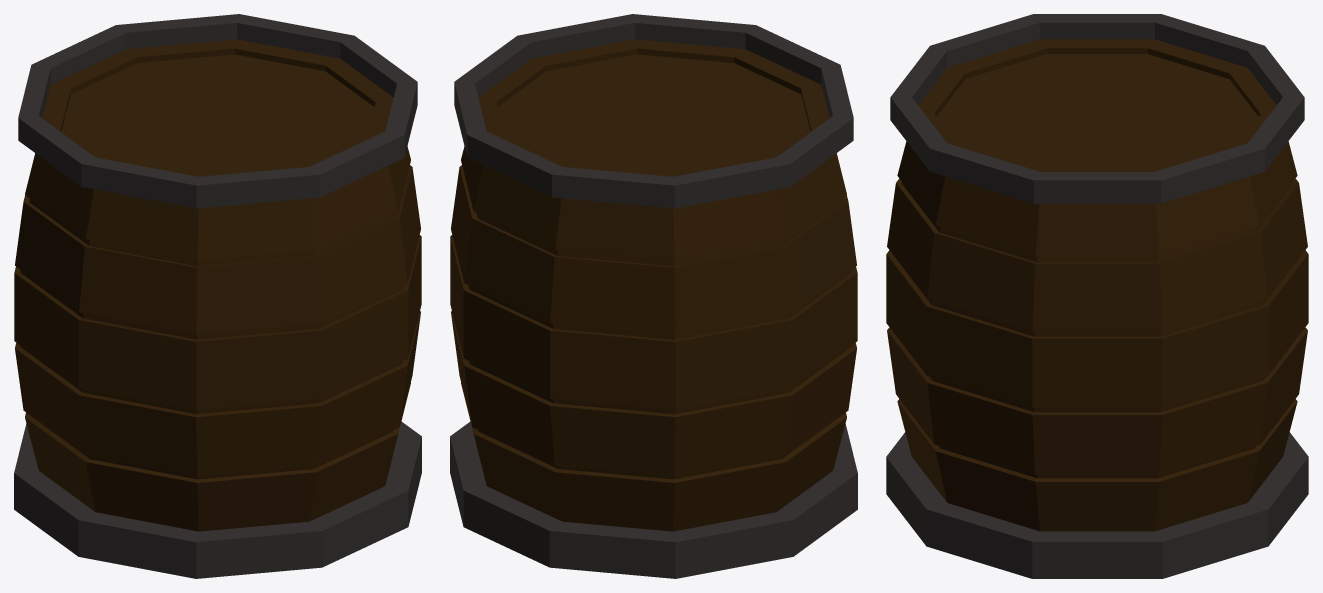
The model's file is Barrel2.glb.
3 renders of one model, left to right at view 1: azimuth 30°, elevation 25°; view 2: azimuth 150°, elevation 25°; view 3: azimuth 270°, elevation 25°, orthographic.
Parts seen in each view (by area): view 1: Barrel_2; view 2: Barrel_2; view 3: Barrel_2.
Part boxes in pixels (x1=…): Barrel_2: x1=14, y1=14, x2=421, y2=578; Barrel_2: x1=450, y1=14, x2=857, y2=578; Barrel_2: x1=886, y1=14, x2=1308, y2=578.
Bounding box in the file's own units: 0.4999 × 0.5446 × 0.5256.
